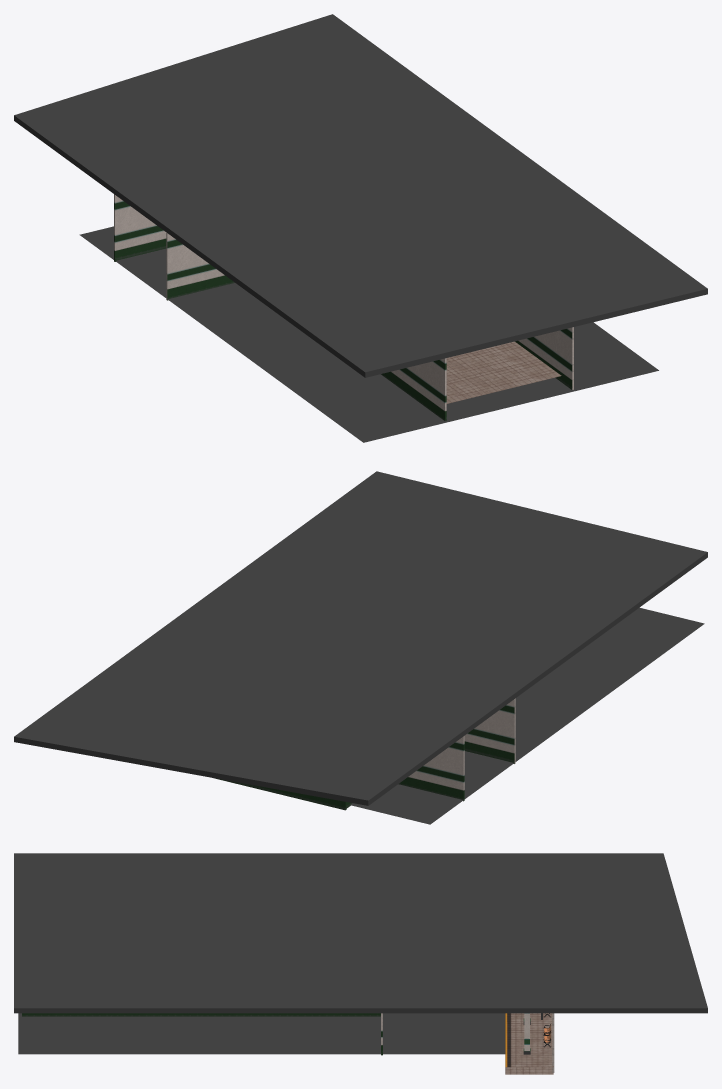
The model's file is Game_map.fbx.
The picture shows the model from 3 angles, top to bottom: view 1: azimuth 30°, elevation 25°; view 2: azimuth 150°, elevation 25°; view 3: azimuth 270°, elevation 25°; orthographic projection. The views are drawn at different scales.
Parts seen in each view (by area): view 1: polySurface172, polySurface332, polySurface294, polySurface242, polySurface293, polySurface189, polySurface256; view 2: polySurface172, polySurface332, polySurface293, polySurface242, polySurface277; view 3: polySurface172, polySurface332, polySurface280, polySurface256.
Part boxes in pixels (left/top/right/bottom): polySurface172: left=14, top=14, right=707, bottom=377; polySurface332: left=79, top=226, right=658, bottom=442; polySurface294: left=446, top=341, right=561, bottom=403; polySurface242: left=166, top=232, right=234, bottom=300; polySurface293: left=114, top=194, right=166, bottom=261; polySurface189: left=381, top=358, right=446, bottom=420; polySurface256: left=515, top=327, right=573, bottom=389; polySurface172: left=14, top=471, right=707, bottom=805; polySurface332: left=350, top=607, right=704, bottom=824; polySurface293: left=398, top=736, right=464, bottom=801; polySurface242: left=464, top=698, right=515, bottom=763; polySurface277: left=264, top=787, right=346, bottom=810; polySurface172: left=14, top=853, right=707, bottom=1013; polySurface332: left=18, top=1013, right=505, bottom=1054; polySurface280: left=505, top=1013, right=553, bottom=1074; polySurface256: left=22, top=1013, right=380, bottom=1016.
Size of the model in its own units: 111 by 22.85 by 211.
3 materials, 3 textured.
